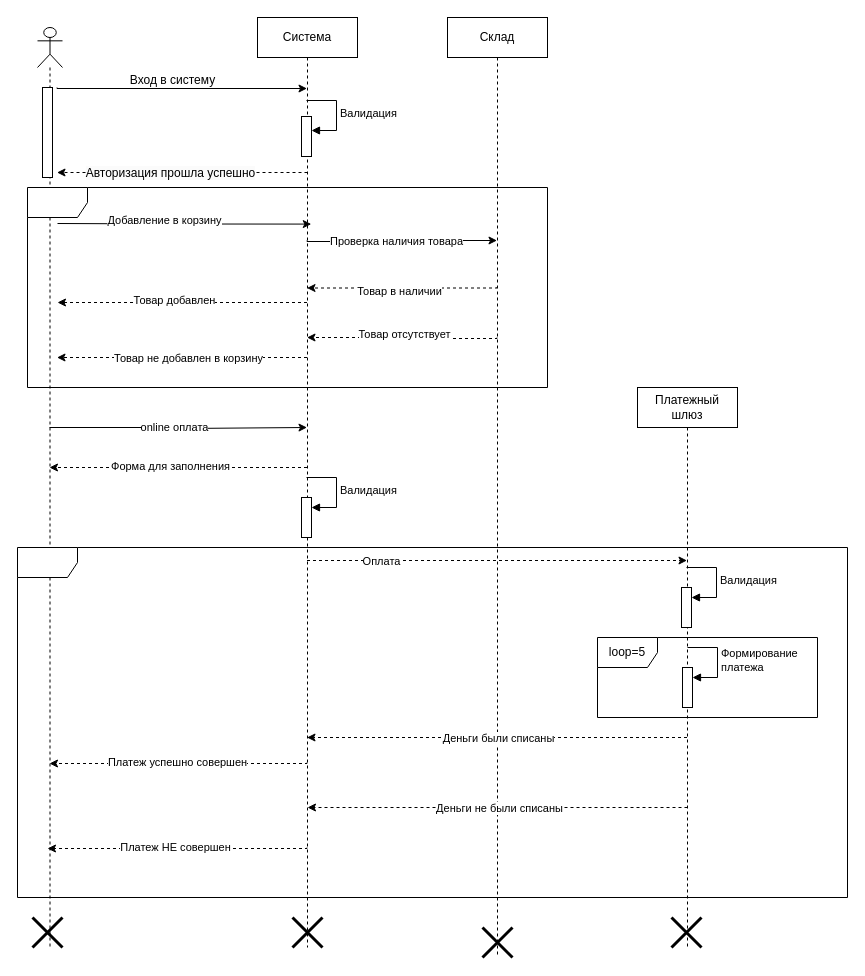
The diagram is 865 pixels wide and 976 high, and some of its shapes have lost their labels. The centre of each missing label's shape, as x and y in pixels:
"alt" belongs at [432,722].
"frame" belongs at [287,287].
